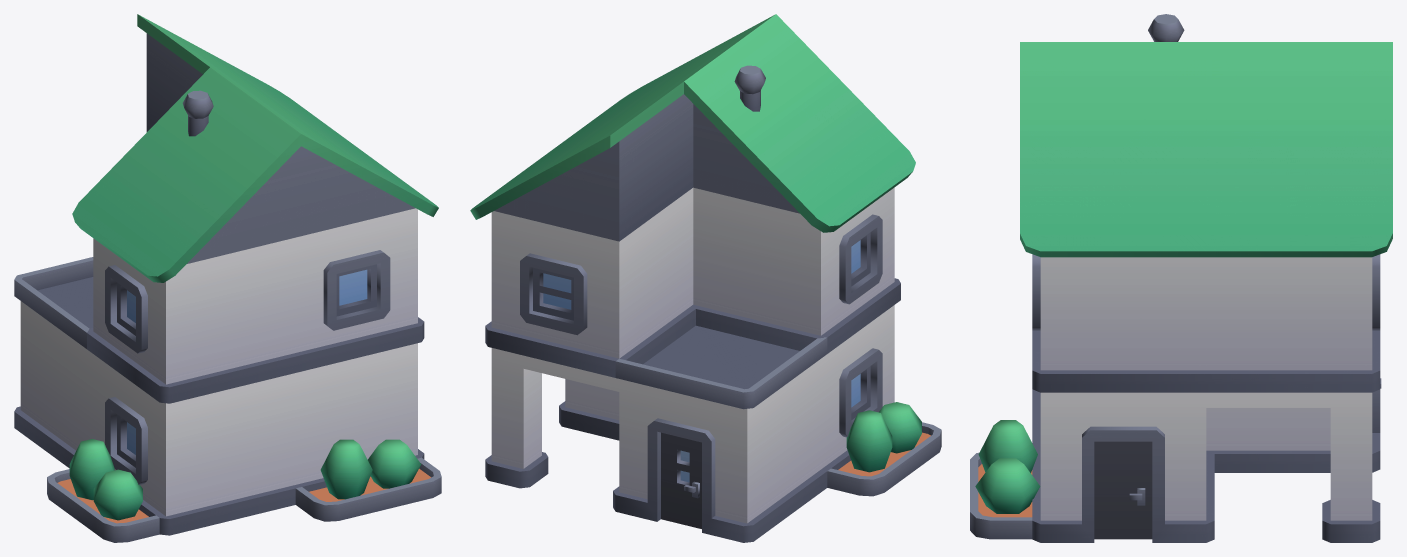
The model's file is building-type-r.draco.glb.
3 renders of one model, left to right at view 1: azimuth 30°, elevation 25°; view 2: azimuth 150°, elevation 25°; view 3: azimuth 270°, elevation 25°, orthographic. The views are drawn at different scales.
Visible parts, largest first — view 1: building-type-r; view 2: building-type-r; view 3: building-type-r.
Boxes of the visible parts, x1=… form: building-type-r: x1=14, y1=14, x2=441, y2=542; building-type-r: x1=470, y1=14, x2=941, y2=542; building-type-r: x1=970, y1=14, x2=1392, y2=542.
Size of the model in its own units: 1.03 by 1.14 by 1.02.
Materials: 1 (1 with a texture image).
